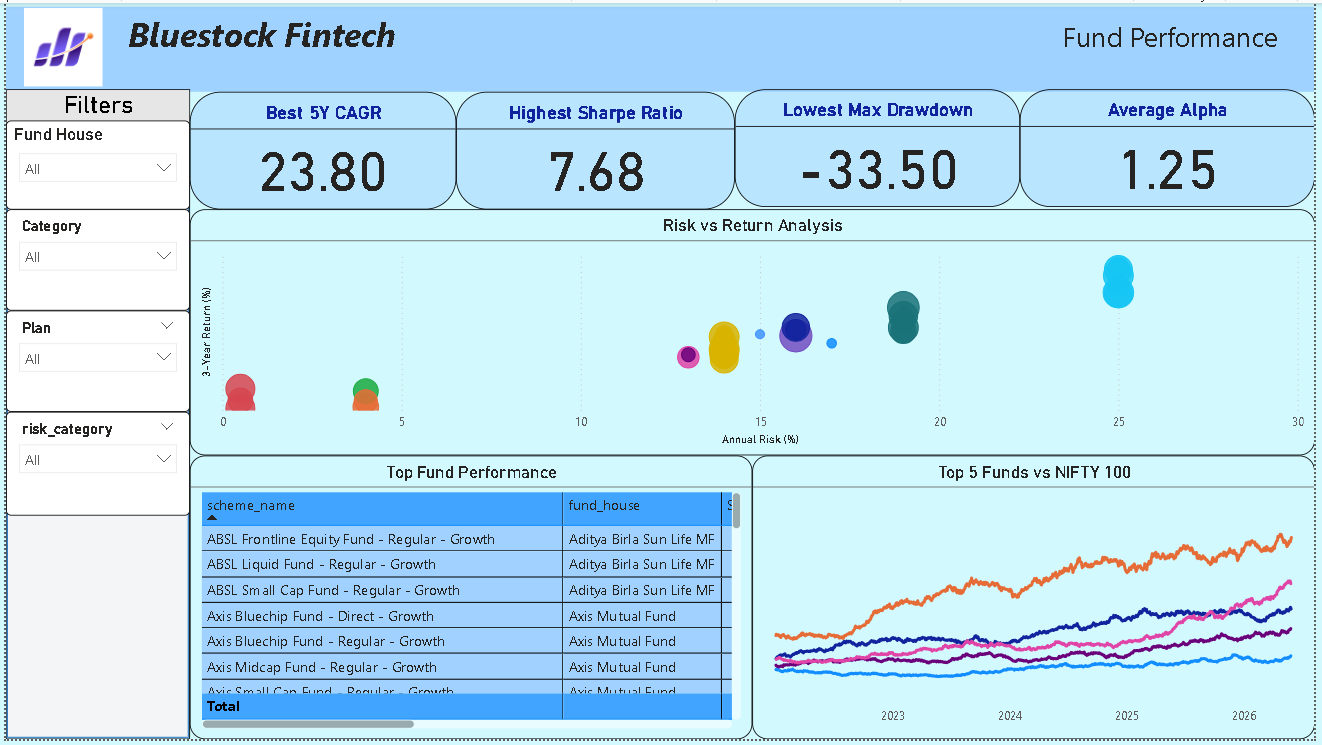

Layout of this report page (visuals, bound fields, positions):
{"tool":"powerbi","page":{"name":"Page 2","canvas":[1280,720],"ordinal":1},"visuals":[{"type":"textbox","box":[0,4,1280.3,83],"z":0},{"type":"image","box":[0,0,111.3,86.8],"z":1000},{"type":"shape","title":"Filters","box":[0,84.1,180,635.9],"z":2000},{"type":"card","title":"Best 5Y CAGR","fields":{"Values":["Max(07_scheme_performance.return_5yr_pct)"]},"box":[179.8,86.8,260.5,114.9],"z":3000},{"type":"card","title":"Highest Sharpe Ratio","fields":{"Values":["Max(07_scheme_performance.sharpe_ratio)"]},"box":[440.2,86.8,272.7,114.9],"z":4000},{"type":"card","title":"Lowest Max Drawdown","fields":{"Values":["Min(07_scheme_performance.max_drawdown_pct)"]},"box":[712.9,84.4,278.8,114.9],"z":5000},{"type":"card","title":"Average Alpha","fields":{"Values":["Avg(07_scheme_performance.alpha)"]},"box":[991.4,84.4,288.6,114.9],"z":6000},{"type":"scatterChart","title":"Risk vs Return Analysis","fields":{"X":["07_scheme_performance.std_dev_ann_pct"],"Size":["Sum(07_scheme_performance.aum_crore)"],"Series":["07_scheme_performance.category"],"Y":["07_scheme_performance.return_3yr_pct"]},"box":[179.8,201.8,1100.5,240.9],"z":7000},{"type":"tableEx","title":"Top Fund Performance","fields":{"Values":["07_scheme_performance.scheme_name","07_scheme_performance.fund_house","Sum(07_scheme_performance.return_3yr_pct)","Sum(07_scheme_performance.return_5yr_pct)","Sum(07_scheme_performance.sharpe_ratio)","Sum(07_scheme_performance.alpha)","Sum(07_scheme_performance.beta)","Sum(07_scheme_performance.morningstar_rating)"]},"box":[179.8,442.7,550.3,277.6],"z":8000},{"type":"lineChart","title":"Top 5 Funds vs NIFTY 100","fields":{"Category":["02_nav_history.date.Variation.Date Hierarchy.Year","02_nav_history.date.Variation.Date Hierarchy.Quarter","02_nav_history.date.Variation.Date Hierarchy.Month","02_nav_history.date.Variation.Date Hierarchy.Day"],"Y":["Sum(02_nav_history.nav)"],"Series":["01_fund_master.scheme_name"]},"box":[730,442.7,550.3,277.6],"z":9000},{"type":"slicer","title":"Fund House","fields":{"Values":["01_fund_master.fund_house"]},"box":[0,114.9,179.8,86.8],"z":10000},{"type":"slicer","fields":{"Values":["01_fund_master.category"]},"box":[0,201.8,179.8,99],"z":11000},{"type":"slicer","fields":{"Values":["01_fund_master.plan"]},"box":[0,300.8,179.8,99],"z":12000},{"type":"slicer","fields":{"Values":["01_fund_master.risk_category"]},"box":[0,399.9,179.8,101.5],"z":13000}]}

Visuals, with their boxes in screenshot pixels (x1, y1, x2, y2), scaled from the page's 1280x720 canvas onto the 1322x745 screenshot:
textbox: detection(0, 4, 1321, 90)
image: detection(0, 0, 115, 90)
"Filters" shape: detection(0, 87, 186, 744)
"Best 5Y CAGR" card: detection(186, 90, 455, 209)
"Highest Sharpe Ratio" card: detection(455, 90, 736, 209)
"Lowest Max Drawdown" card: detection(736, 87, 1024, 206)
"Average Alpha" card: detection(1024, 87, 1321, 206)
"Risk vs Return Analysis" scatterChart: detection(186, 209, 1321, 458)
"Top Fund Performance" tableEx: detection(186, 458, 754, 744)
"Top 5 Funds vs NIFTY 100" lineChart: detection(754, 458, 1321, 744)
"Fund House" slicer: detection(0, 119, 186, 209)
slicer - 01_fund_master.category: detection(0, 209, 186, 311)
slicer - 01_fund_master.plan: detection(0, 311, 186, 414)
slicer - 01_fund_master.risk_category: detection(0, 414, 186, 519)
